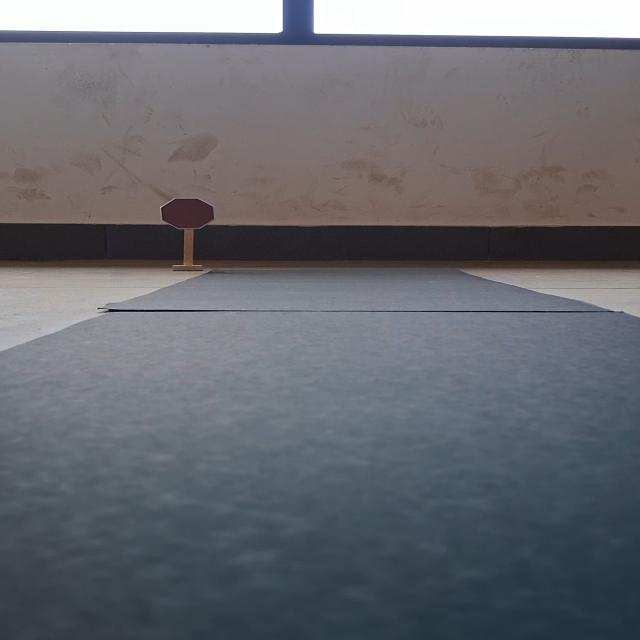Stop: (160, 198, 215, 230)
